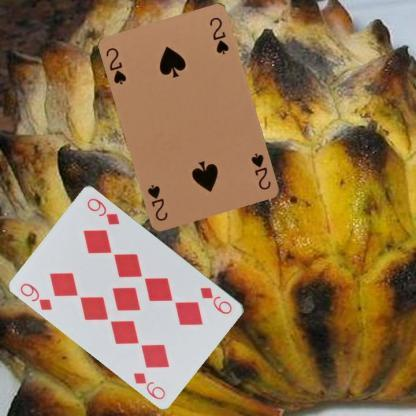2s: (248, 150, 273, 191), (104, 45, 128, 86)
9d: (198, 284, 234, 316), (18, 280, 54, 312)
